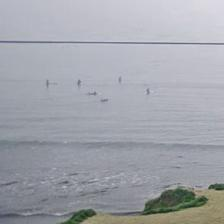surfer: (87, 91, 97, 95), (76, 80, 82, 86), (101, 98, 109, 102), (46, 79, 50, 86), (119, 76, 122, 83), (146, 88, 150, 93)
